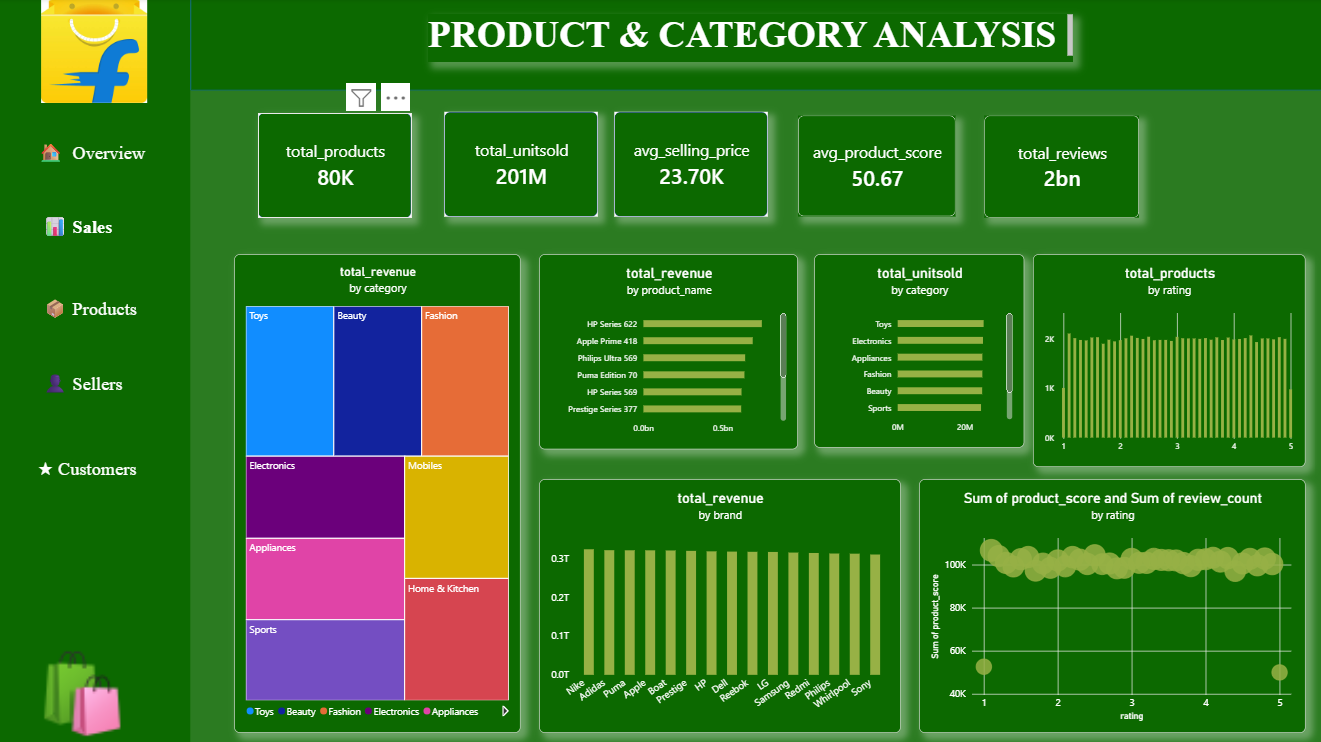

Layout of this report page (visuals, bound fields, positions):
{"tool":"powerbi","page":{"name":"Product & Category Analysis","canvas":[1920,1080],"ordinal":2},"visuals":[{"type":"cardVisual","fields":{"Data":["calculation_table.avg_product_score"]},"box":[1158.2,170.1,228,146.6],"z":0},{"type":"cardVisual","fields":{"Data":["calculation_table.total_reviews"]},"box":[1427.8,170.1,224.4,148.4],"z":1000},{"type":"treemap","fields":{"Group":["flipkard.category"],"Values":["calculation_table.total_revenue"]},"box":[342,371,414.4,693.1],"z":2000},{"type":"clusteredBarChart","fields":{"Category":["flipkard.category"],"Y":["calculation_table.total_unitsold"]},"box":[1181.7,371,304,280],"z":3000},{"type":"clusteredBarChart","fields":{"Category":["flipkard.product_name"],"Y":["calculation_table.total_revenue"]},"box":[783.6,371,374.6,282.3],"z":4000},{"type":"clusteredColumnChart","fields":{"Category":["flipkard.brand"],"Y":["calculation_table.total_revenue"]},"box":[783.6,696.7,523,367.4],"z":5000},{"type":"clusteredColumnChart","fields":{"Category":["flipkard.rating"],"Y":["calculation_table.total_products"]},"box":[1498.4,371,394.5,307.6],"z":6000},{"type":"scatterChart","fields":{"X":["flipkard.rating"],"Y":["Sum(flipkard.product_score)"],"Size":["Sum(flipkard.review_count)"]},"box":[1333.7,696.7,559.2,367.4],"z":7000},{"type":"shape","box":[0,0,278.7,1080.4],"z":8000},{"type":"textbox","box":[57.9,204.5,157.4,47.1],"z":9000},{"type":"textbox","box":[57.9,311.3,157.4,59.7],"z":10000},{"type":"textbox","box":[57.9,430.7,157.4,59.7],"z":11000},{"type":"textbox","box":[57.9,539.3,157.4,59.7],"z":12000},{"type":"textbox","box":[57.9,662.3,157.4,56.1],"z":13000},{"type":"shape","box":[278.7,0,1641.4,133.9],"z":14000},{"type":"textbox","box":[622.5,23.5,933.8,68.8],"z":15000},{"type":"image","box":[0,0,278.7,152],"z":16000},{"type":"cardVisual","fields":{"Data":["calculation_table.total_products"]},"box":[376.4,166.5,222.3,152.3],"z":17000},{"type":"cardVisual","fields":{"Data":["calculation_table.total_unitsold"]},"box":[646,164.7,222.3,152.3],"z":18000},{"type":"cardVisual","fields":{"Data":["calculation_table.avg_selling_price"]},"box":[892.2,164.7,222.3,152.3],"z":19000},{"type":"image","box":[0,933.4,244.3,146.6],"z":19001},{"type":"actionButton","box":[57.9,211.7,186.4,39.8],"z":19002},{"type":"actionButton","box":[68.8,222.6,105,39.8],"z":19003},{"type":"actionButton","box":[56.1,311.3,191.8,59.7],"z":19004},{"type":"actionButton","box":[56.1,430.7,191.8,59.7],"z":19005},{"type":"actionButton","box":[56.1,539.3,191.8,59.7],"z":19006},{"type":"actionButton","box":[56.1,644.2,191.8,70.6],"z":19007}]}

Visuals, with their boxes on the page's 1920x1080 design canvas (x1, y1, x2, y2). These are canvas units, not pixel positions in the 1321x742 screenshot, which may show the page scaled, cropped or inside an application window:
cardVisual - calculation_table.avg_product_score: left=1158, top=170, right=1386, bottom=317
cardVisual - calculation_table.total_reviews: left=1428, top=170, right=1652, bottom=318
treemap - flipkard.category x calculation_table.total_revenue: left=342, top=371, right=756, bottom=1064
clusteredBarChart - flipkard.category x calculation_table.total_unitsold: left=1182, top=371, right=1486, bottom=651
clusteredBarChart - flipkard.product_name x calculation_table.total_revenue: left=784, top=371, right=1158, bottom=653
clusteredColumnChart - flipkard.brand x calculation_table.total_revenue: left=784, top=697, right=1307, bottom=1064
clusteredColumnChart - flipkard.rating x calculation_table.total_products: left=1498, top=371, right=1893, bottom=679
scatterChart - flipkard.rating x Sum(flipkard.product_score): left=1334, top=697, right=1893, bottom=1064
shape: left=0, top=0, right=279, bottom=1080
textbox: left=58, top=204, right=215, bottom=252
textbox: left=58, top=311, right=215, bottom=371
textbox: left=58, top=431, right=215, bottom=490
textbox: left=58, top=539, right=215, bottom=599
textbox: left=58, top=662, right=215, bottom=718
shape: left=279, top=0, right=1920, bottom=134
textbox: left=622, top=24, right=1556, bottom=92
image: left=0, top=0, right=279, bottom=152
cardVisual - calculation_table.total_products: left=376, top=166, right=599, bottom=319
cardVisual - calculation_table.total_unitsold: left=646, top=165, right=868, bottom=317
cardVisual - calculation_table.avg_selling_price: left=892, top=165, right=1114, bottom=317
image: left=0, top=933, right=244, bottom=1080
actionButton: left=58, top=212, right=244, bottom=252
actionButton: left=69, top=223, right=174, bottom=262
actionButton: left=56, top=311, right=248, bottom=371
actionButton: left=56, top=431, right=248, bottom=490
actionButton: left=56, top=539, right=248, bottom=599
actionButton: left=56, top=644, right=248, bottom=715
